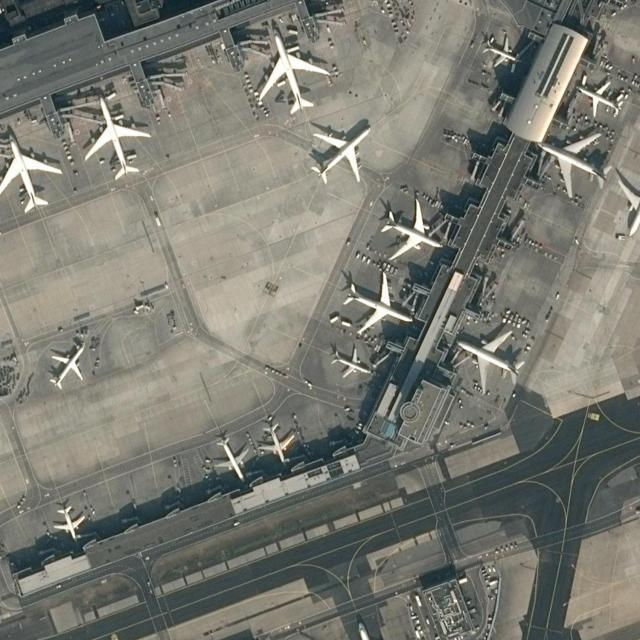Aircraft: (80, 92, 153, 181), (256, 31, 333, 114), (533, 128, 611, 196), (453, 324, 526, 394), (0, 133, 64, 212), (339, 269, 415, 333), (378, 192, 444, 261), (306, 121, 370, 187), (570, 73, 624, 117), (43, 339, 88, 391), (205, 431, 249, 482), (258, 418, 296, 464), (612, 173, 640, 235), (328, 344, 373, 380), (50, 501, 88, 543), (480, 30, 520, 68)
